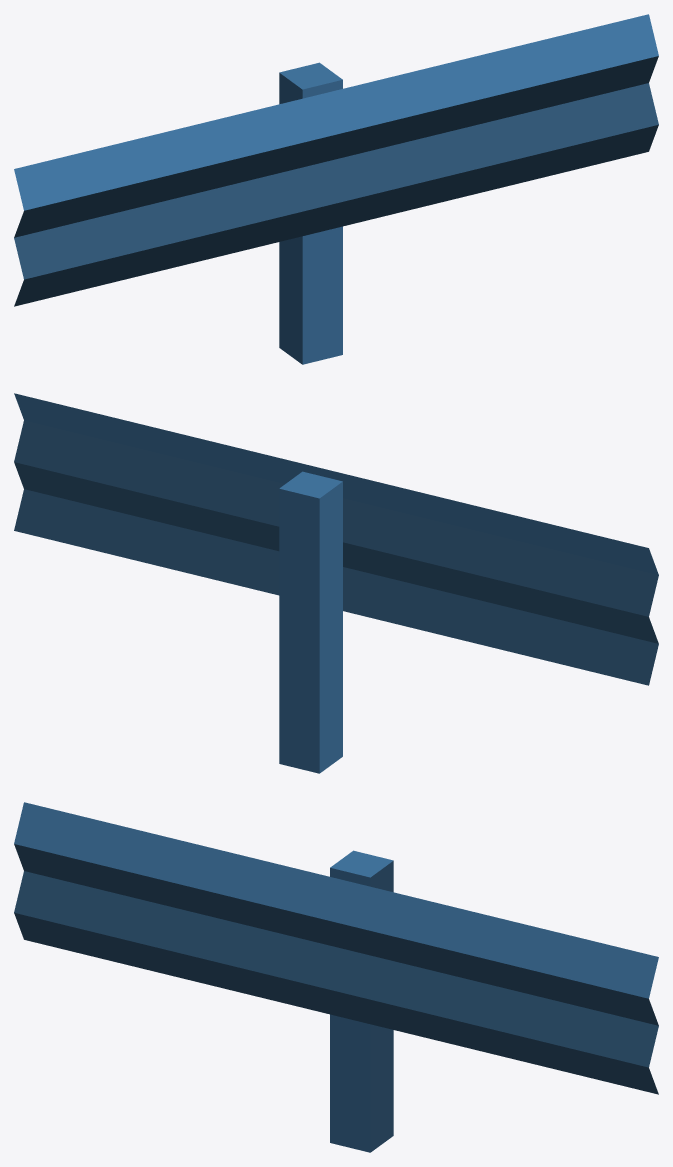
Rendered from Fence.fbx.
3 renders of one model, top to bottom at view 1: azimuth 30°, elevation 25°; view 2: azimuth 150°, elevation 25°; view 3: azimuth 330°, elevation 25°, orthographic.
Visible parts, largest first — view 1: Fence; view 2: Fence; view 3: Fence.
Part boxes in pixels (box(x1,y1,x2,y2)): Fence: box(14, 14, 658, 364); Fence: box(14, 393, 658, 773); Fence: box(14, 802, 658, 1152).
Size of the model in its own units: 7.24 by 3 by 0.8322.
